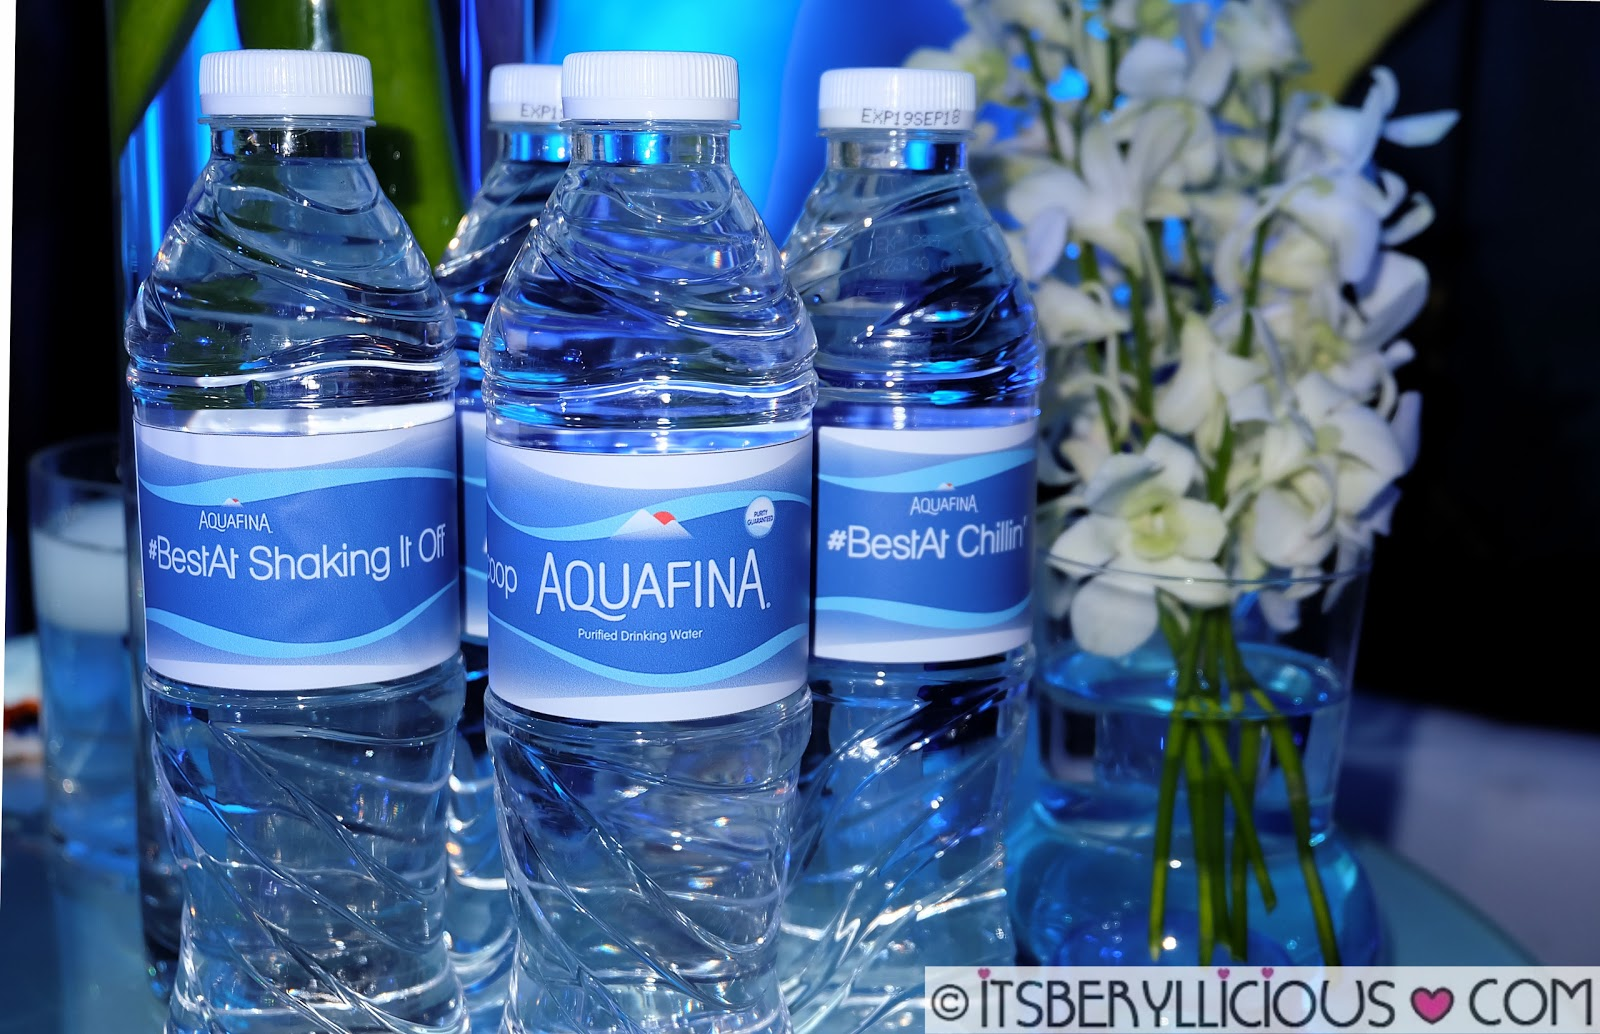plastic_bottle: (122, 37, 473, 1026), (498, 48, 817, 1033), (783, 59, 1031, 969)
